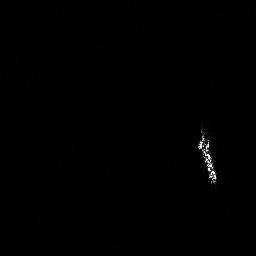ship: (192, 125, 222, 188)
